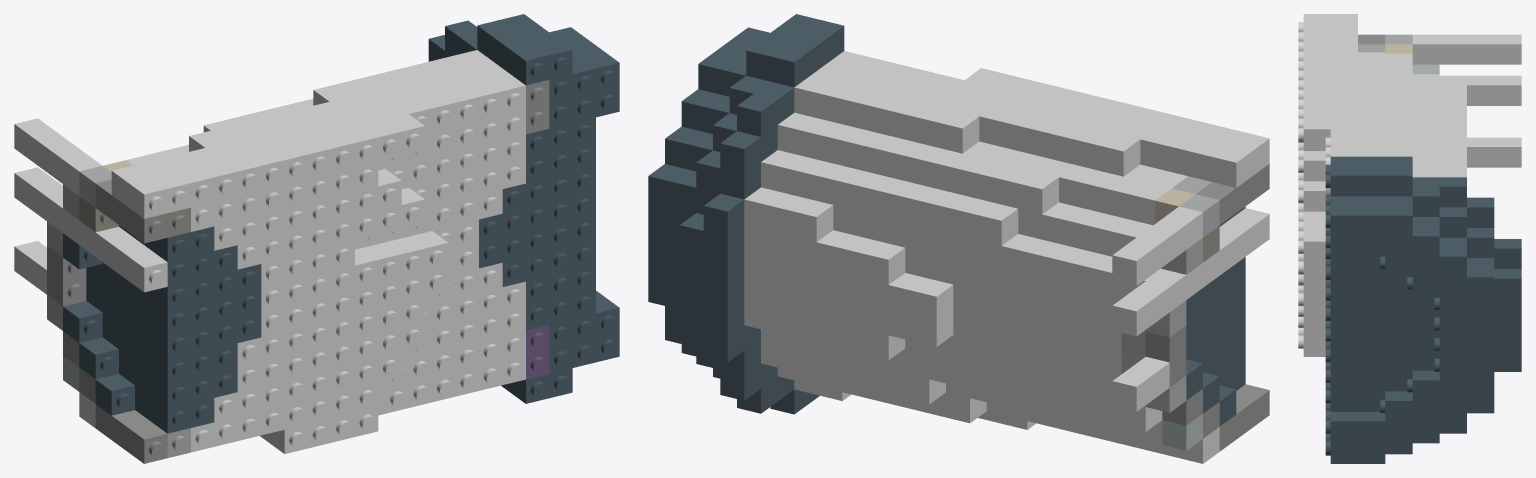
The model's file is full.glb.
The picture shows the model from 3 angles, left to right: view 1: azimuth 30°, elevation 25°; view 2: azimuth 150°, elevation 25°; view 3: azimuth 270°, elevation 25°; orthographic projection. The views are drawn at different scales.
Visible parts, largest first — view 1: world; view 2: world; view 3: world.
Part boxes in pixels (x1,y1,x2,y2): world: [14, 14, 619, 463]; world: [648, 14, 1269, 463]; world: [1298, 14, 1521, 463].
Bounding box in the file's own units: 168 × 112 × 78.6.
